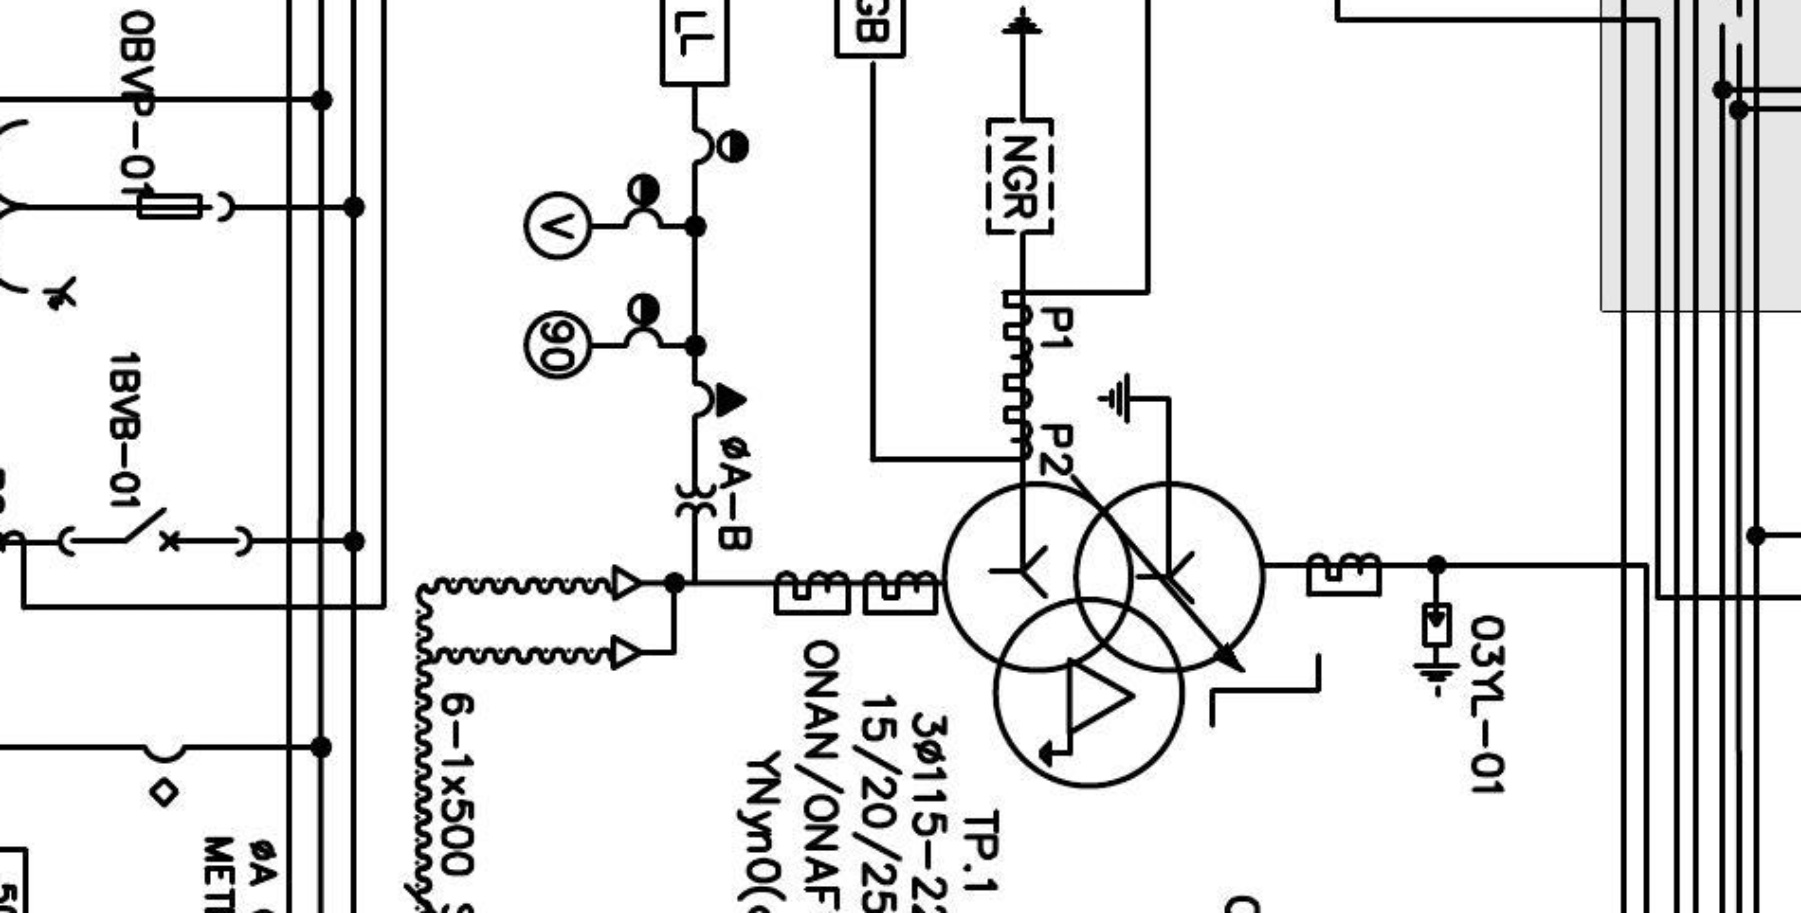11522_tx_ynyn0d1: (940, 480, 1268, 792)
115_la: (1411, 601, 1462, 699)
22_breaker: (56, 507, 254, 558)
NGR_future: (984, 5, 1055, 236)
terminator_double: (610, 562, 679, 672)
v_m: (522, 190, 595, 262)
